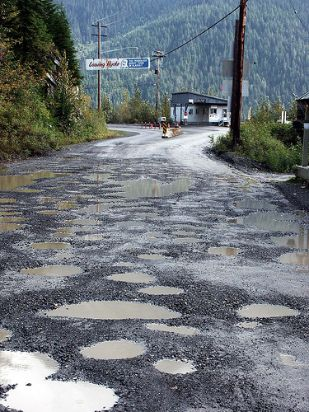pothole: (32, 295, 181, 323), (1, 378, 123, 412), (1, 346, 61, 383), (77, 335, 147, 360), (235, 299, 300, 319), (150, 355, 199, 377), (142, 321, 205, 338), (20, 262, 85, 277), (102, 269, 156, 286), (136, 282, 189, 296), (273, 249, 309, 267), (134, 248, 177, 262), (203, 242, 243, 257), (25, 241, 77, 252)
